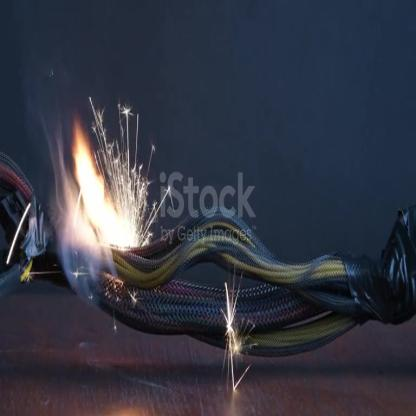fire: (74, 111, 161, 249)
smoke: (29, 68, 111, 306)
